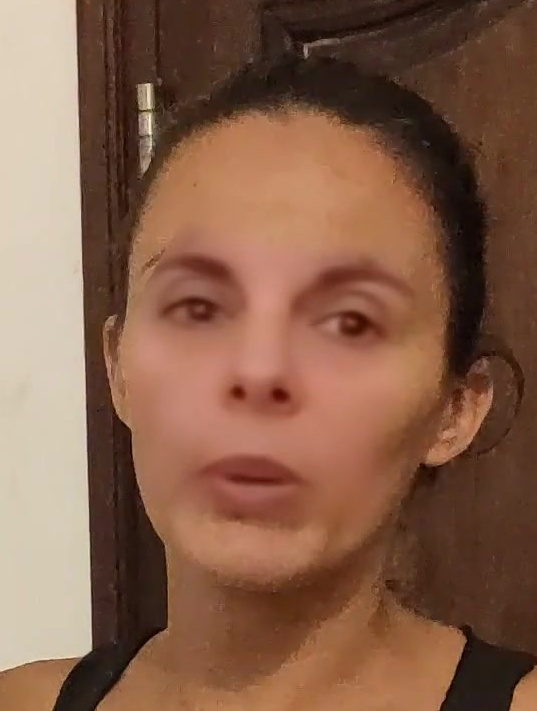eb_f: (134, 239, 424, 357)
